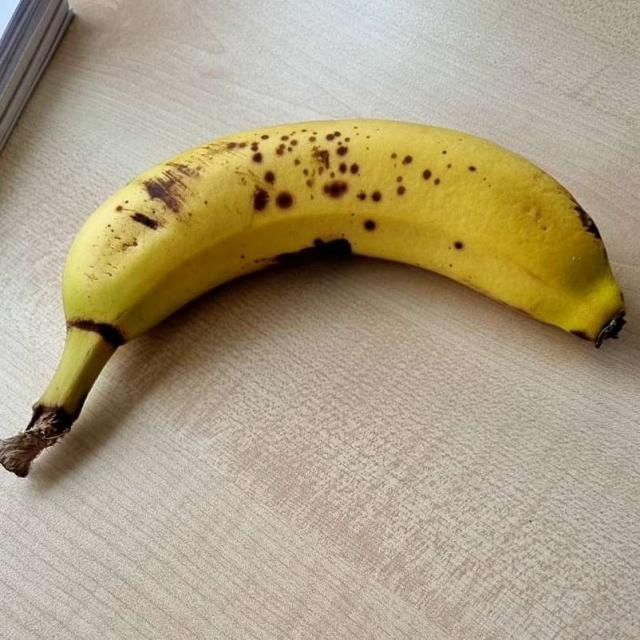banana: (27, 122, 615, 430)
